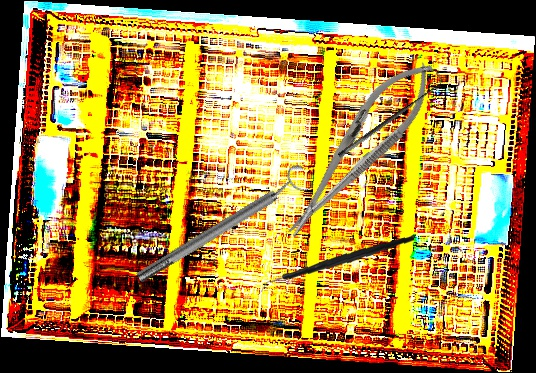Chopper: (259, 226, 415, 304)
Fixation Ring: (129, 161, 316, 291)
Hook Surgical: (331, 71, 448, 160)
Needle Holder: (269, 46, 449, 251)
